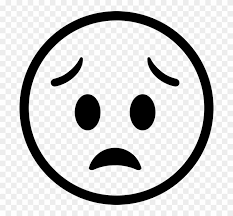triste: (16, 6, 221, 207), (51, 56, 182, 170), (62, 85, 165, 172)
